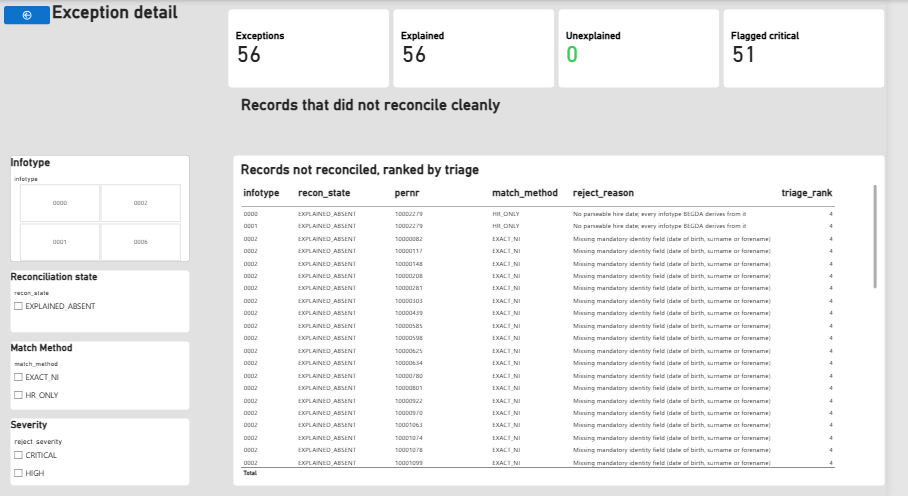

The page's visual inventory and layout, read from the dashboard file:
{"tool":"powerbi","page":{"name":"Exceptions","canvas":[1920,1080],"ordinal":1},"visuals":[{"type":"tableEx","title":"Records not reconciled, ranked by triage","fields":{"Values":["recon recon_exceptions.infotype","recon recon_exceptions.recon_state","recon recon_exceptions.pernr","recon recon_exceptions.match_method","recon recon_exceptions.reject_reason","recon recon_exceptions.triage_rank"]},"box":[505.3,336.1,1414.2,718.5],"z":0},{"type":"actionButton","box":[9,14,100,40],"z":1},{"type":"textbox","box":[113.5,2.1,299.4,57.8],"z":2},{"type":"textbox","box":[522.3,208.5,594.6,49.5],"z":3},{"type":"slicer","title":"Reconciliation state","fields":{"Values":["recon recon_exceptions.recon_state"]},"box":[21.7,585.5,390.2,136.3],"z":4},{"type":"slicer","title":"Match Method","fields":{"Values":["recon recon_exceptions.match_method"]},"box":[21.7,739.5,390.4,149.6],"z":5},{"type":"slicer","title":"Severity","fields":{"Values":["recon recon_exceptions.reject_severity"]},"box":[21.7,906.5,390.2,146.6],"z":6},{"type":"cardVisual","fields":{"Data":["profiling detection_scores.Exceptions","profiling detection_scores.Explained","profiling detection_scores.Unexplained","profiling detection_scores.Flagged critical"]},"box":[494.5,19.5,1424.8,171.3],"z":7},{"type":"slicer","title":"Infotype","fields":{"Values":["recon recon_exceptions.infotype"]},"box":[21.7,336.1,390.4,232],"z":8}]}

Visuals, with their boxes in screenshot pixels (x1, y1, x2, y2), scaled from the page's 1920x1080 canvas onto the 908x496 screenshot:
"Records not reconciled, ranked by triage" tableEx: (x1=239, y1=154, x2=907, y2=484)
actionButton: (x1=4, y1=6, x2=52, y2=25)
textbox: (x1=54, y1=1, x2=195, y2=28)
textbox: (x1=247, y1=96, x2=528, y2=118)
"Reconciliation state" slicer: (x1=10, y1=269, x2=195, y2=331)
"Match Method" slicer: (x1=10, y1=340, x2=195, y2=408)
"Severity" slicer: (x1=10, y1=416, x2=195, y2=484)
cardVisual - profiling detection_scores.Exceptions x profiling detection_scores.Explained: (x1=234, y1=9, x2=907, y2=88)
"Infotype" slicer: (x1=10, y1=154, x2=195, y2=261)
